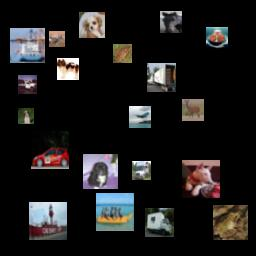airplane: (129, 106, 151, 128)
automobile: (31, 131, 69, 169)
deer: (182, 99, 204, 121), (49, 31, 65, 47)
dog: (182, 160, 220, 198), (83, 154, 118, 189), (79, 12, 105, 38), (57, 58, 79, 80), (18, 108, 34, 124)
frog: (213, 205, 248, 240), (113, 44, 132, 63)
ship: (29, 202, 67, 240), (96, 193, 134, 231), (10, 28, 45, 63), (206, 27, 228, 49)
truck: (145, 208, 174, 237), (147, 63, 176, 92), (18, 75, 37, 94), (132, 161, 151, 180)
